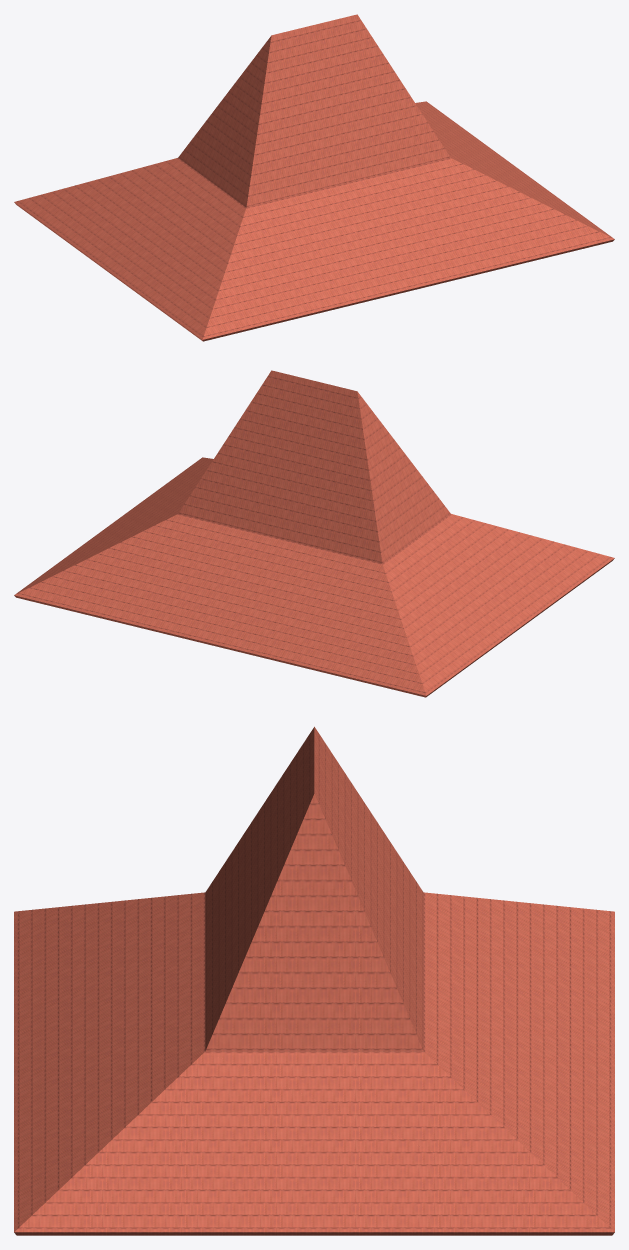
File: Joglo_part_353.fbx
The picture shows the model from 3 angles, top to bottom: view 1: azimuth 30°, elevation 25°; view 2: azimuth 150°, elevation 25°; view 3: azimuth 270°, elevation 25°; orthographic projection. The views are drawn at different scales.
Visible parts, largest first — view 1: Mesh408_Roof_Tiles___French_Red_0.001; view 2: Mesh408_Roof_Tiles___French_Red_0.001; view 3: Mesh408_Roof_Tiles___French_Red_0.001.
Boxes of the visible parts, box(x1,y1,x2,y2) form: Mesh408_Roof_Tiles___French_Red_0.001: box(14, 14, 614, 341); Mesh408_Roof_Tiles___French_Red_0.001: box(14, 370, 614, 697); Mesh408_Roof_Tiles___French_Red_0.001: box(14, 726, 614, 1235).
Size of the model in its own units: 567 by 261 by 449.
